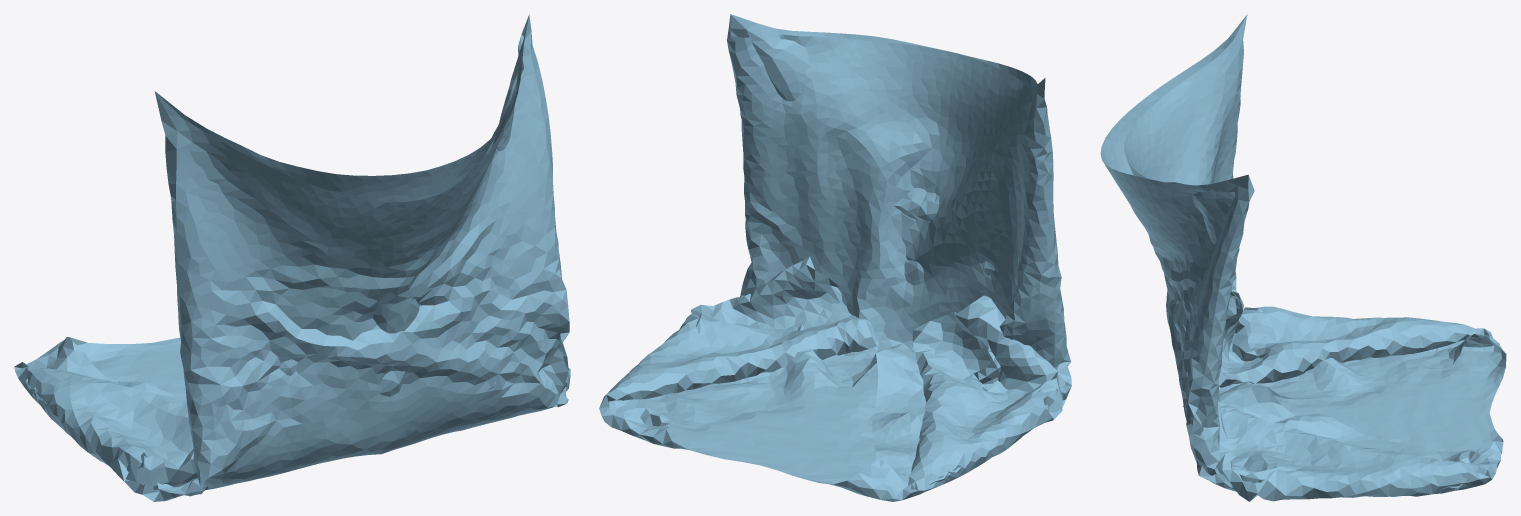
File: frame_11.glb
The picture shows the model from 3 angles, left to right: view 1: azimuth 30°, elevation 25°; view 2: azimuth 150°, elevation 25°; view 3: azimuth 270°, elevation 25°; orthographic projection. The views are drawn at different scales.
Parts seen in each view (by area): view 1: frame_11.obj; view 2: frame_11.obj; view 3: frame_11.obj.
Boxes of the visible parts, box(x1,y1,x2,y2) form: frame_11.obj: box(14, 14, 570, 501); frame_11.obj: box(599, 14, 1071, 501); frame_11.obj: box(1100, 14, 1506, 501).
Bounding box in the file's own units: 1.21 × 1.06 × 1.18.
